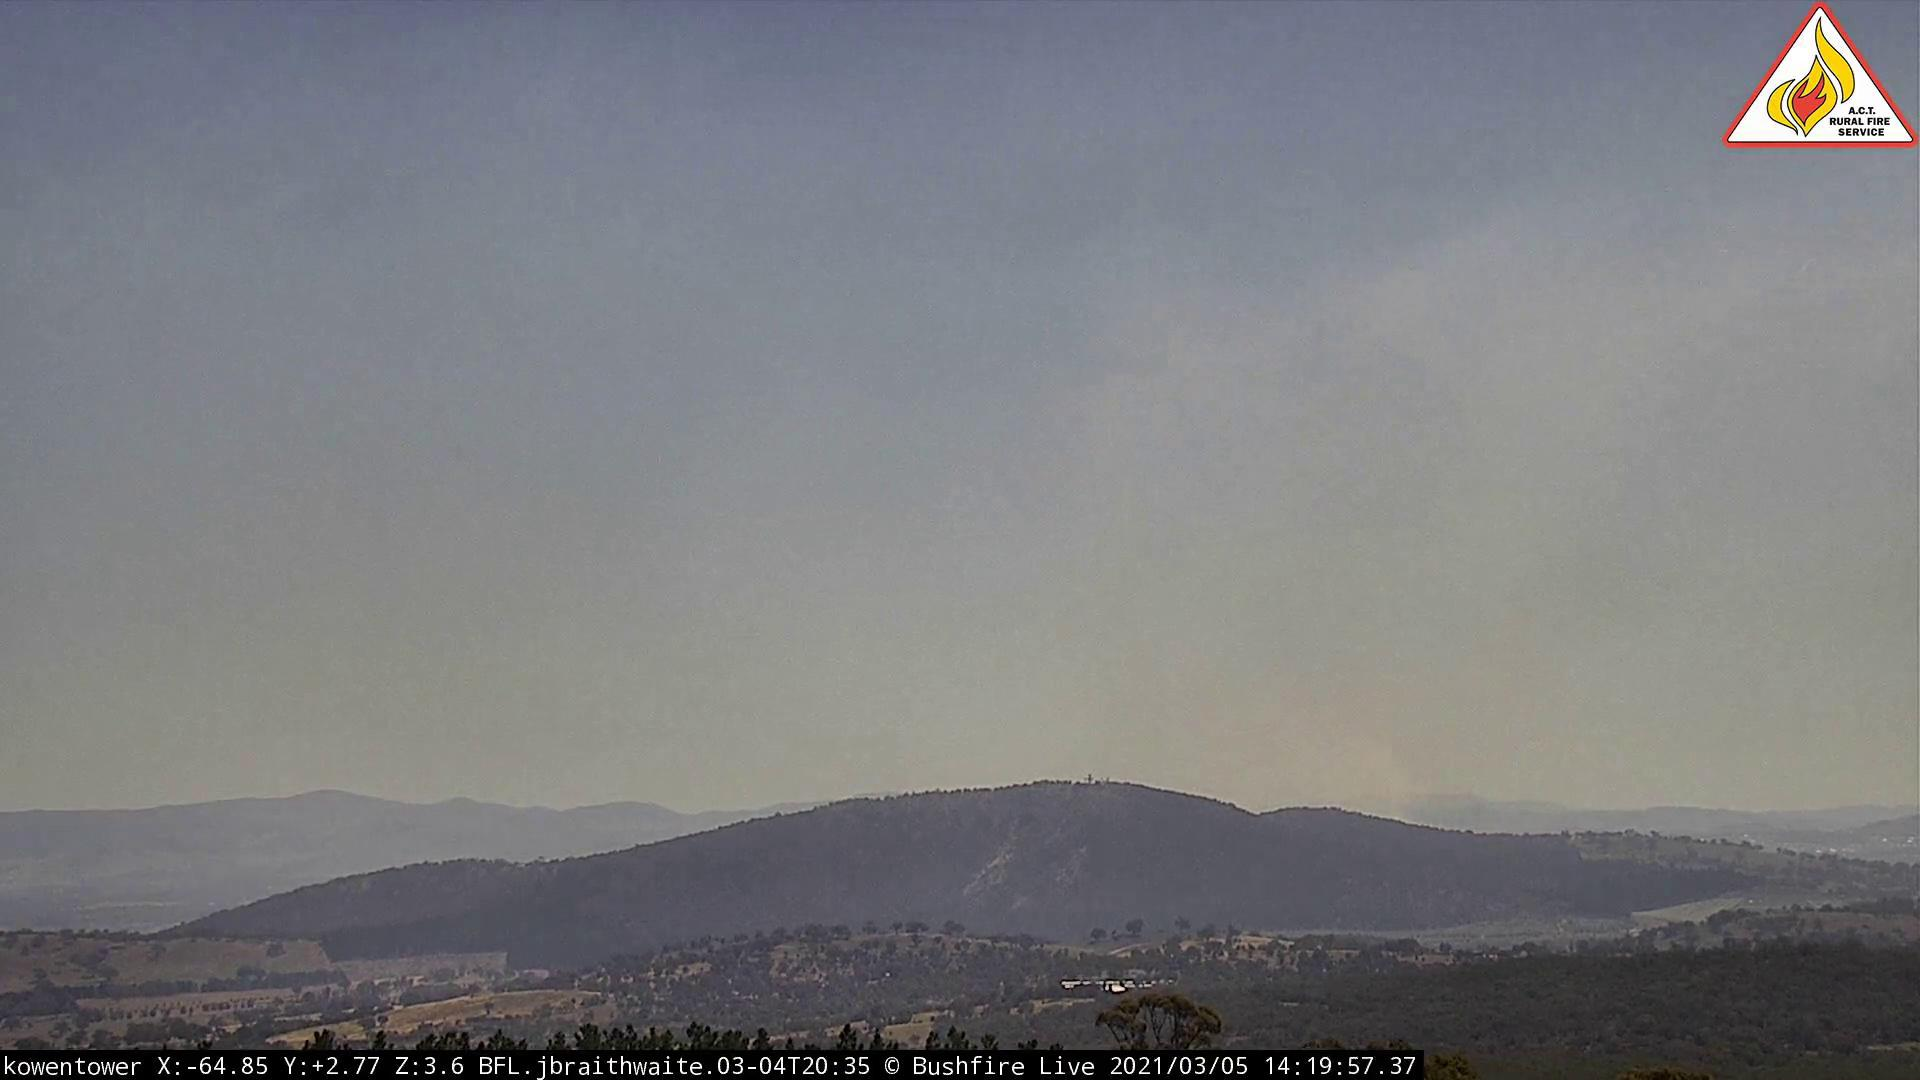Smoke: (1229, 684, 1535, 837)
